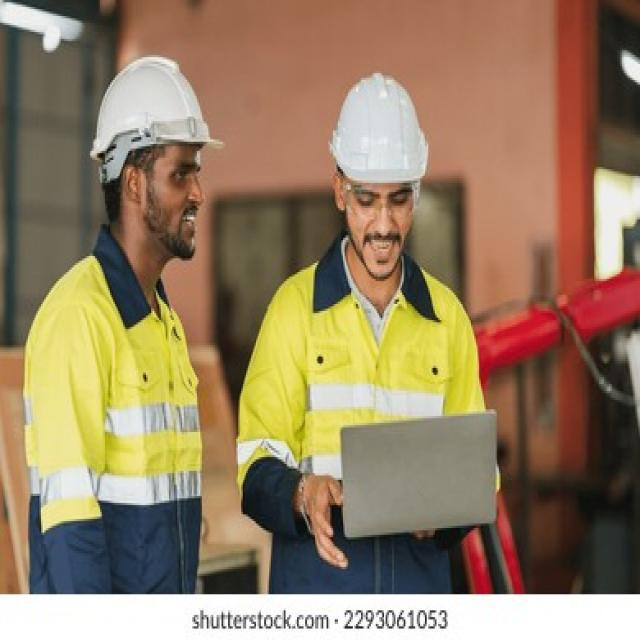safetyhelmet: (86, 54, 227, 204), (310, 70, 443, 212)
